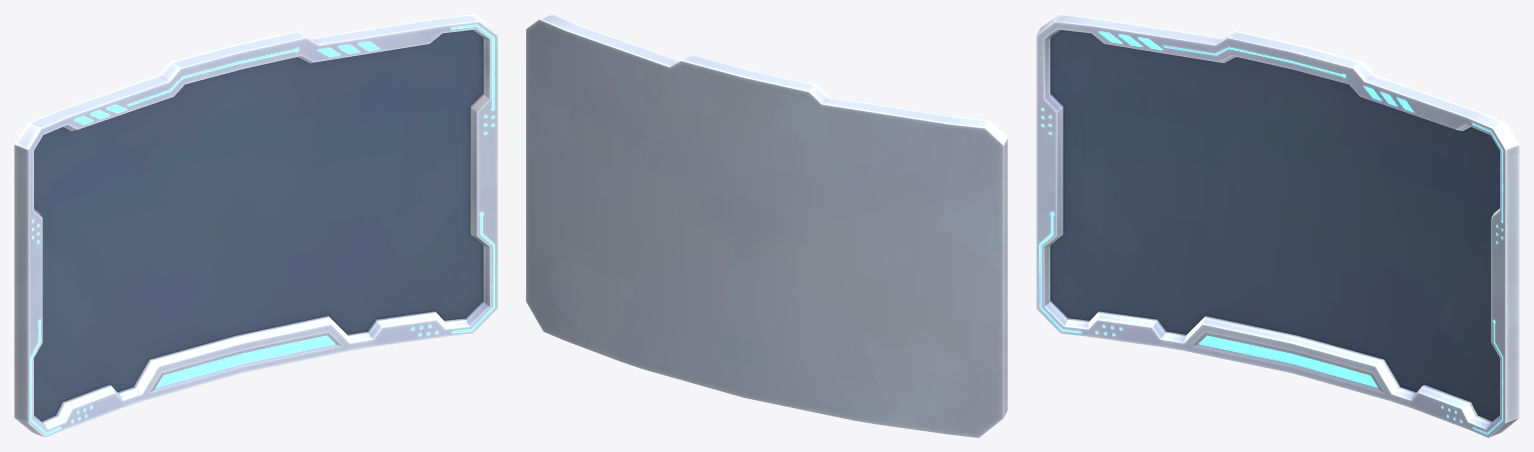
File: obj_screen06.gltf
3 views of the same model, side by side, from view 1: azimuth 30°, elevation 25°; view 2: azimuth 150°, elevation 25°; view 3: azimuth 330°, elevation 25° (orthographic).
Visible parts, largest first — view 1: obj_screen06; view 2: obj_screen06; view 3: obj_screen06.
Boxes of the visible parts, bbox=[...] form: obj_screen06: bbox=[14, 14, 497, 437]; obj_screen06: bbox=[526, 14, 1007, 437]; obj_screen06: bbox=[1036, 14, 1519, 437].
Size of what is drawn, in the model's own units: 4.14 by 2.65 by 0.4551.
1 material, 1 textured.
